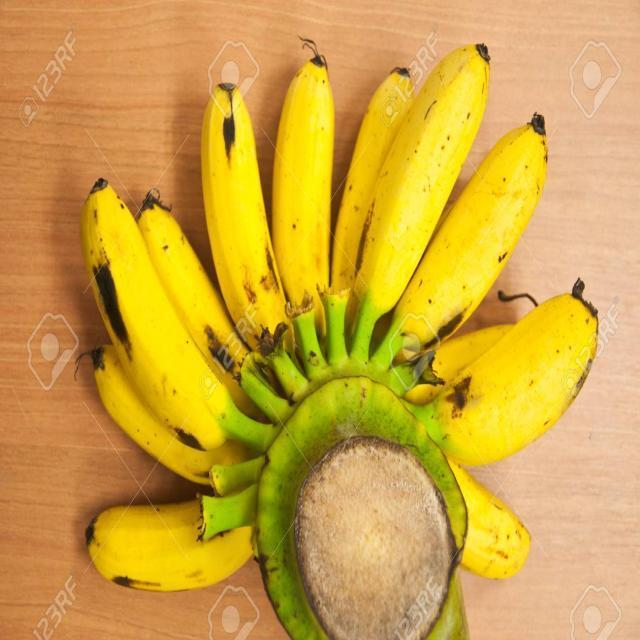Banana: (72, 30, 602, 640)
